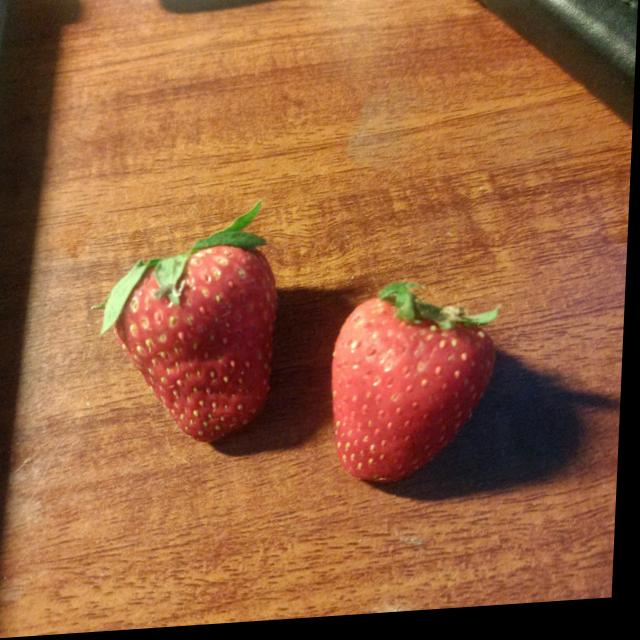DauTay: (82, 211, 547, 517)
